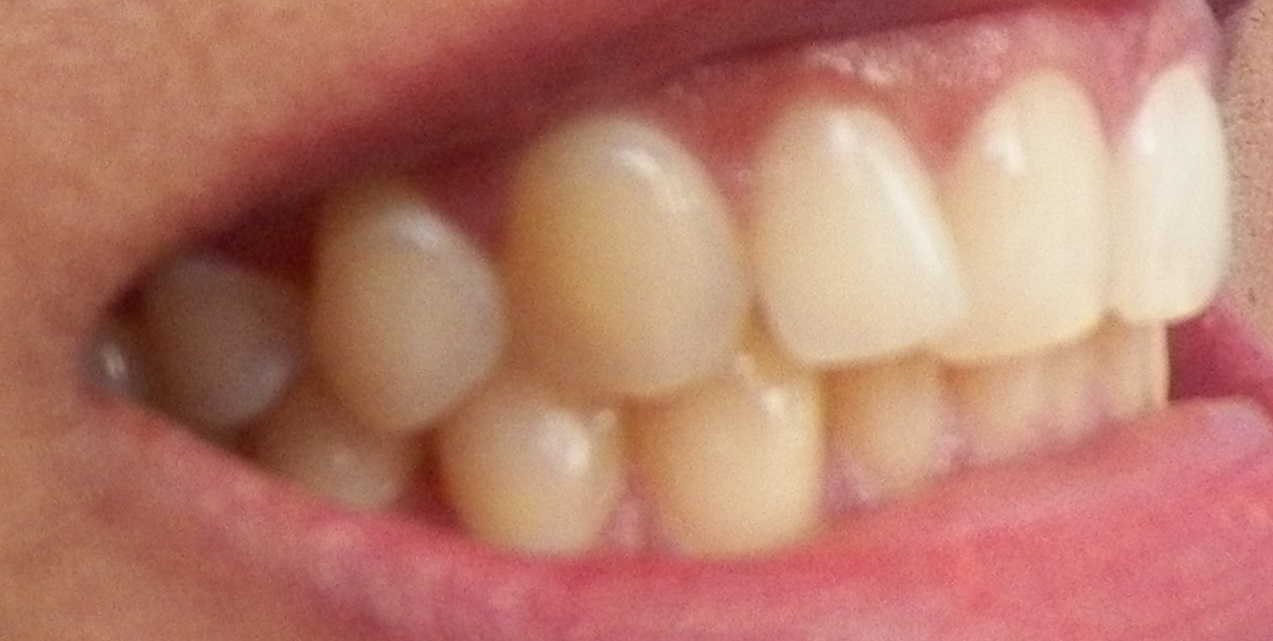boca: (134, 49, 1231, 531)
